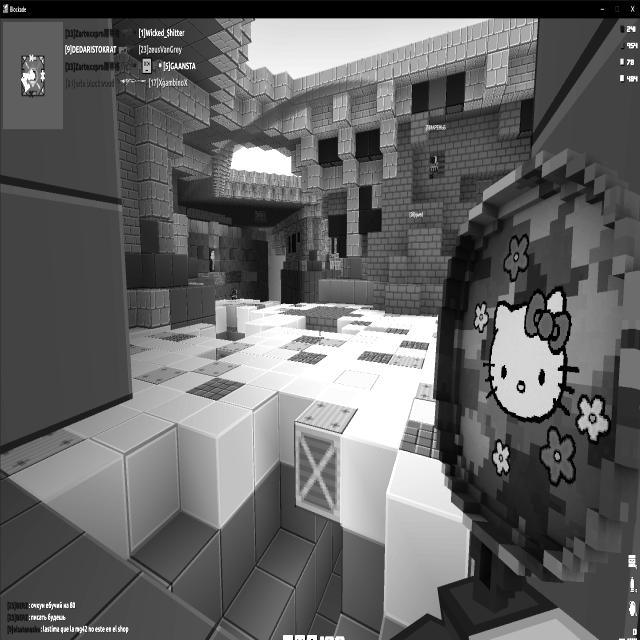Head: (232, 288, 238, 297), (210, 250, 216, 256)
Player: (436, 152, 445, 177), (211, 249, 216, 269), (230, 288, 238, 300)
